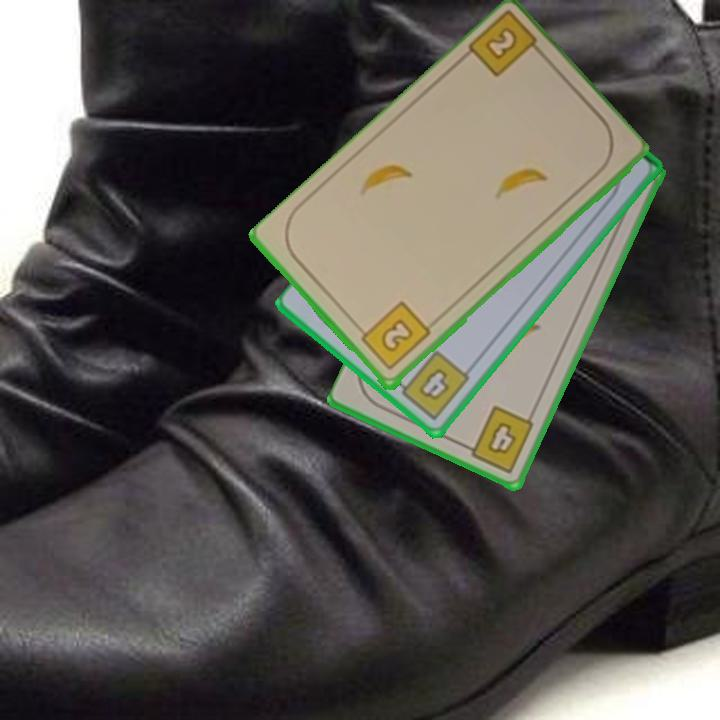2b: (353, 298, 434, 374), (464, 10, 549, 81)
4b: (391, 347, 474, 424), (459, 402, 537, 476)
